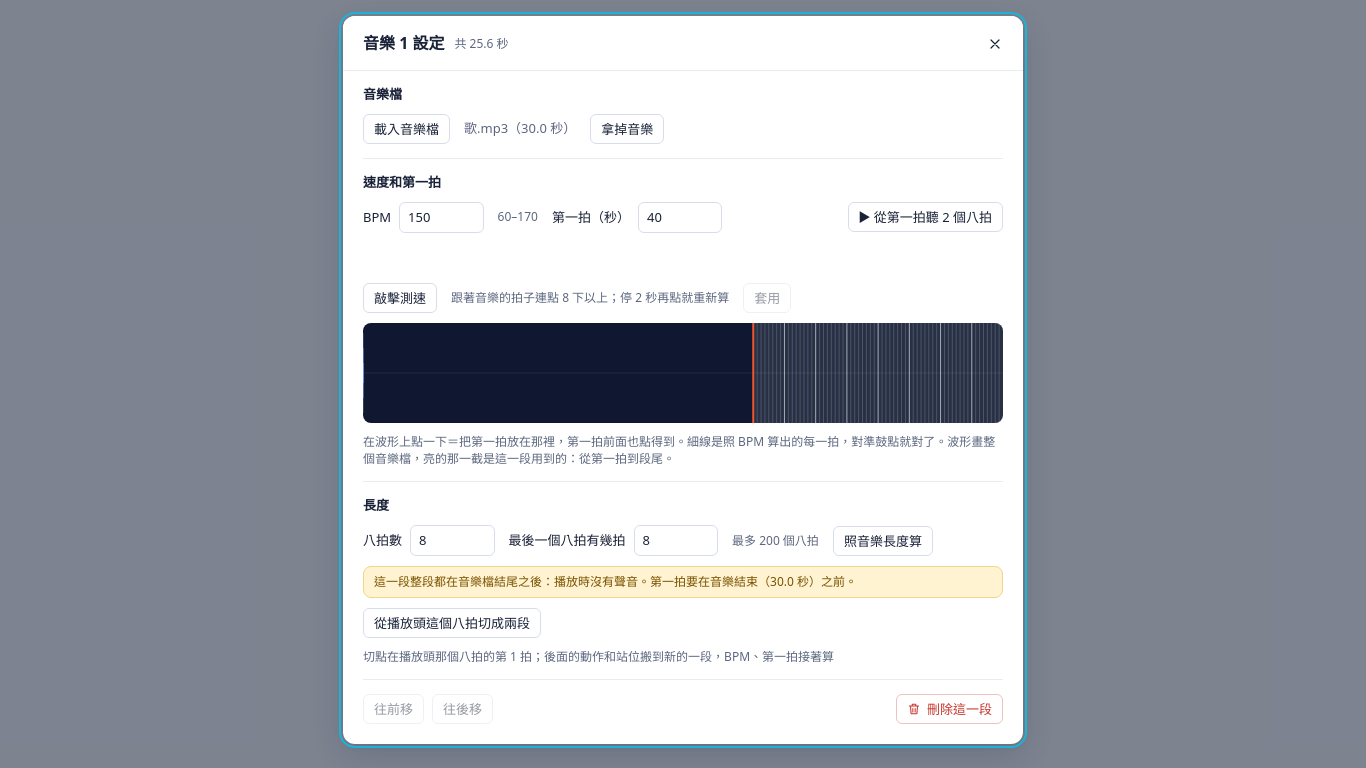
Scenario: 音樂段設定 › 第一拍已經在音樂結束之後（換了短的檔）：照音樂長度算不給 0.5 秒，說原因
Click the button "照音樂長度算" at (883, 541), box [833,526,933,556]
(page scrolled)
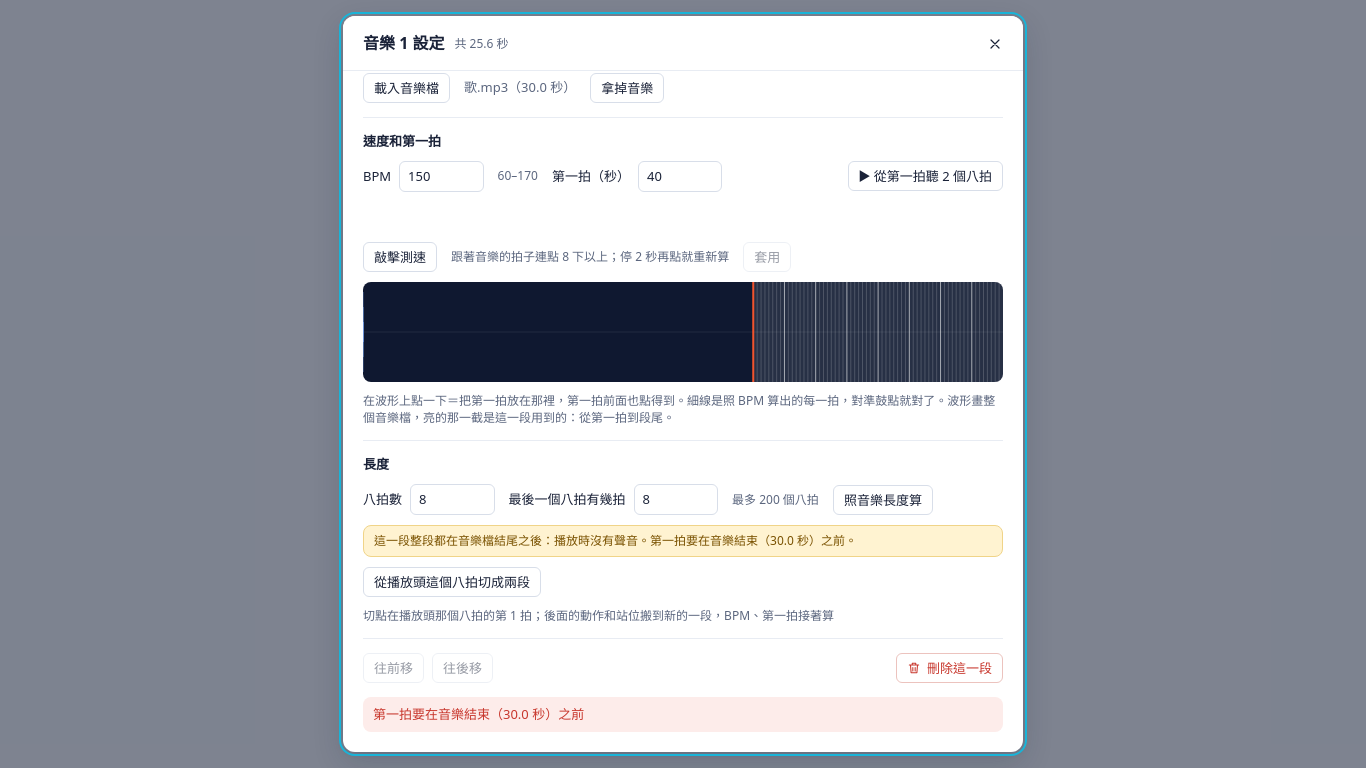
Expected: the message reads "第一拍要在音樂結束（30.0 秒）之前", [373,705,584,723]
